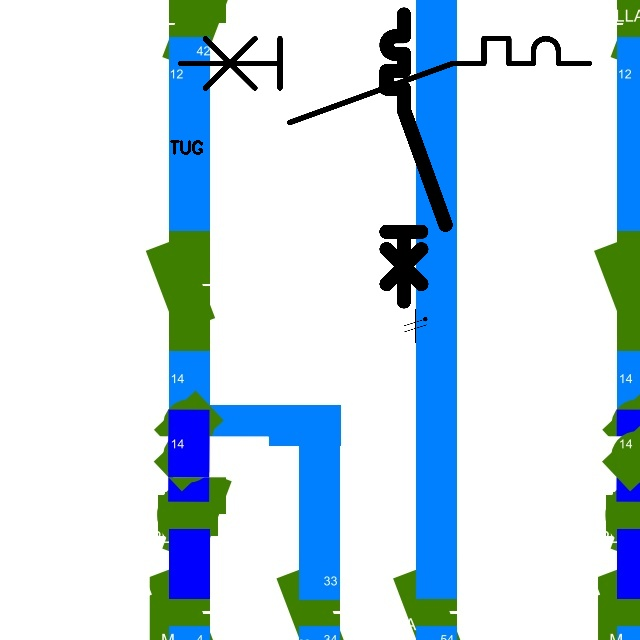interruptor_termomagnetico: (170, 28, 600, 133), (379, 7, 453, 309)
